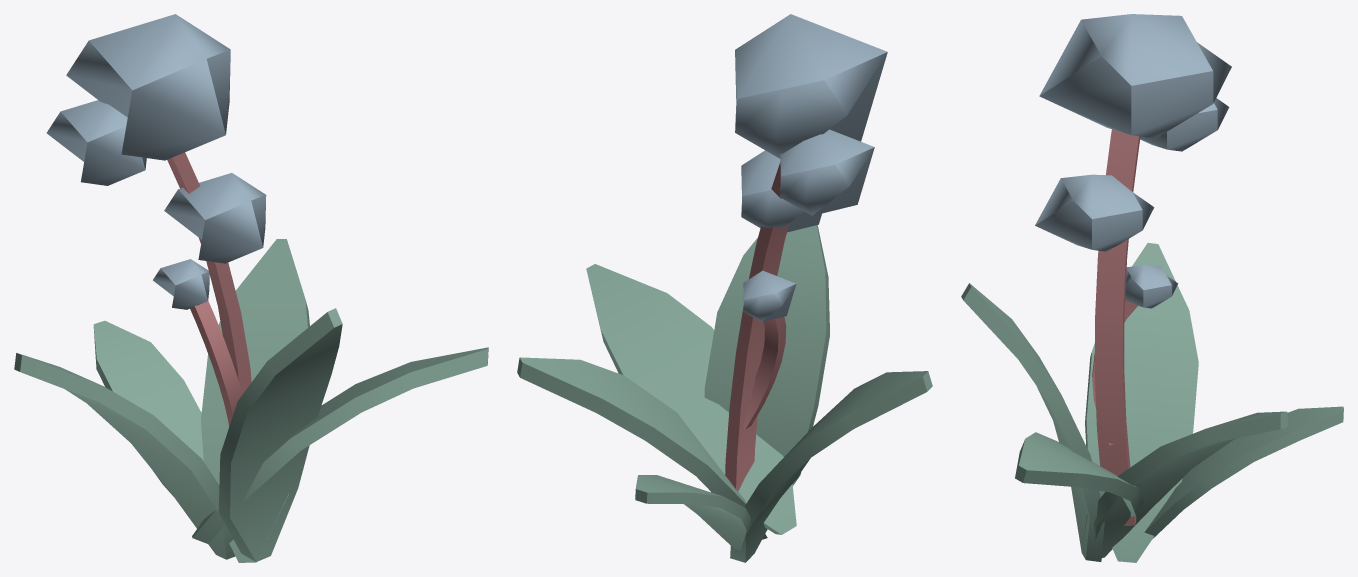
File: SM_Flower2.fbx
The picture shows the model from 3 angles, left to right: view 1: azimuth 30°, elevation 25°; view 2: azimuth 150°, elevation 25°; view 3: azimuth 270°, elevation 25°; orthographic projection. The views are drawn at different scales.
Parts seen in each view (by area): view 1: Flower2; view 2: Flower2; view 3: Flower2.
Boxes of the visible parts, x1,y1,x2,y2 form: Flower2: [14, 14, 488, 562]; Flower2: [517, 14, 932, 562]; Flower2: [961, 14, 1343, 562].
Size of the model in its own units: 12.54 by 16.31 by 10.8.
